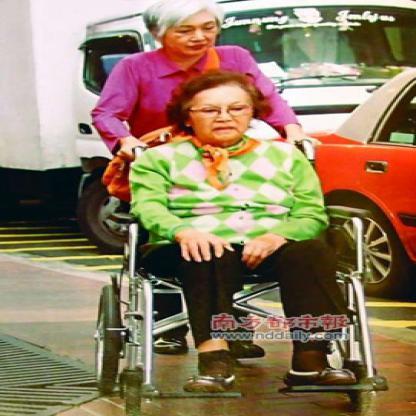wheelchair: (95, 76, 382, 413)
